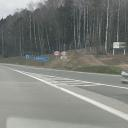speed_limit_100: (52, 50, 60, 57)
speed_limit_120: (59, 50, 68, 57)
